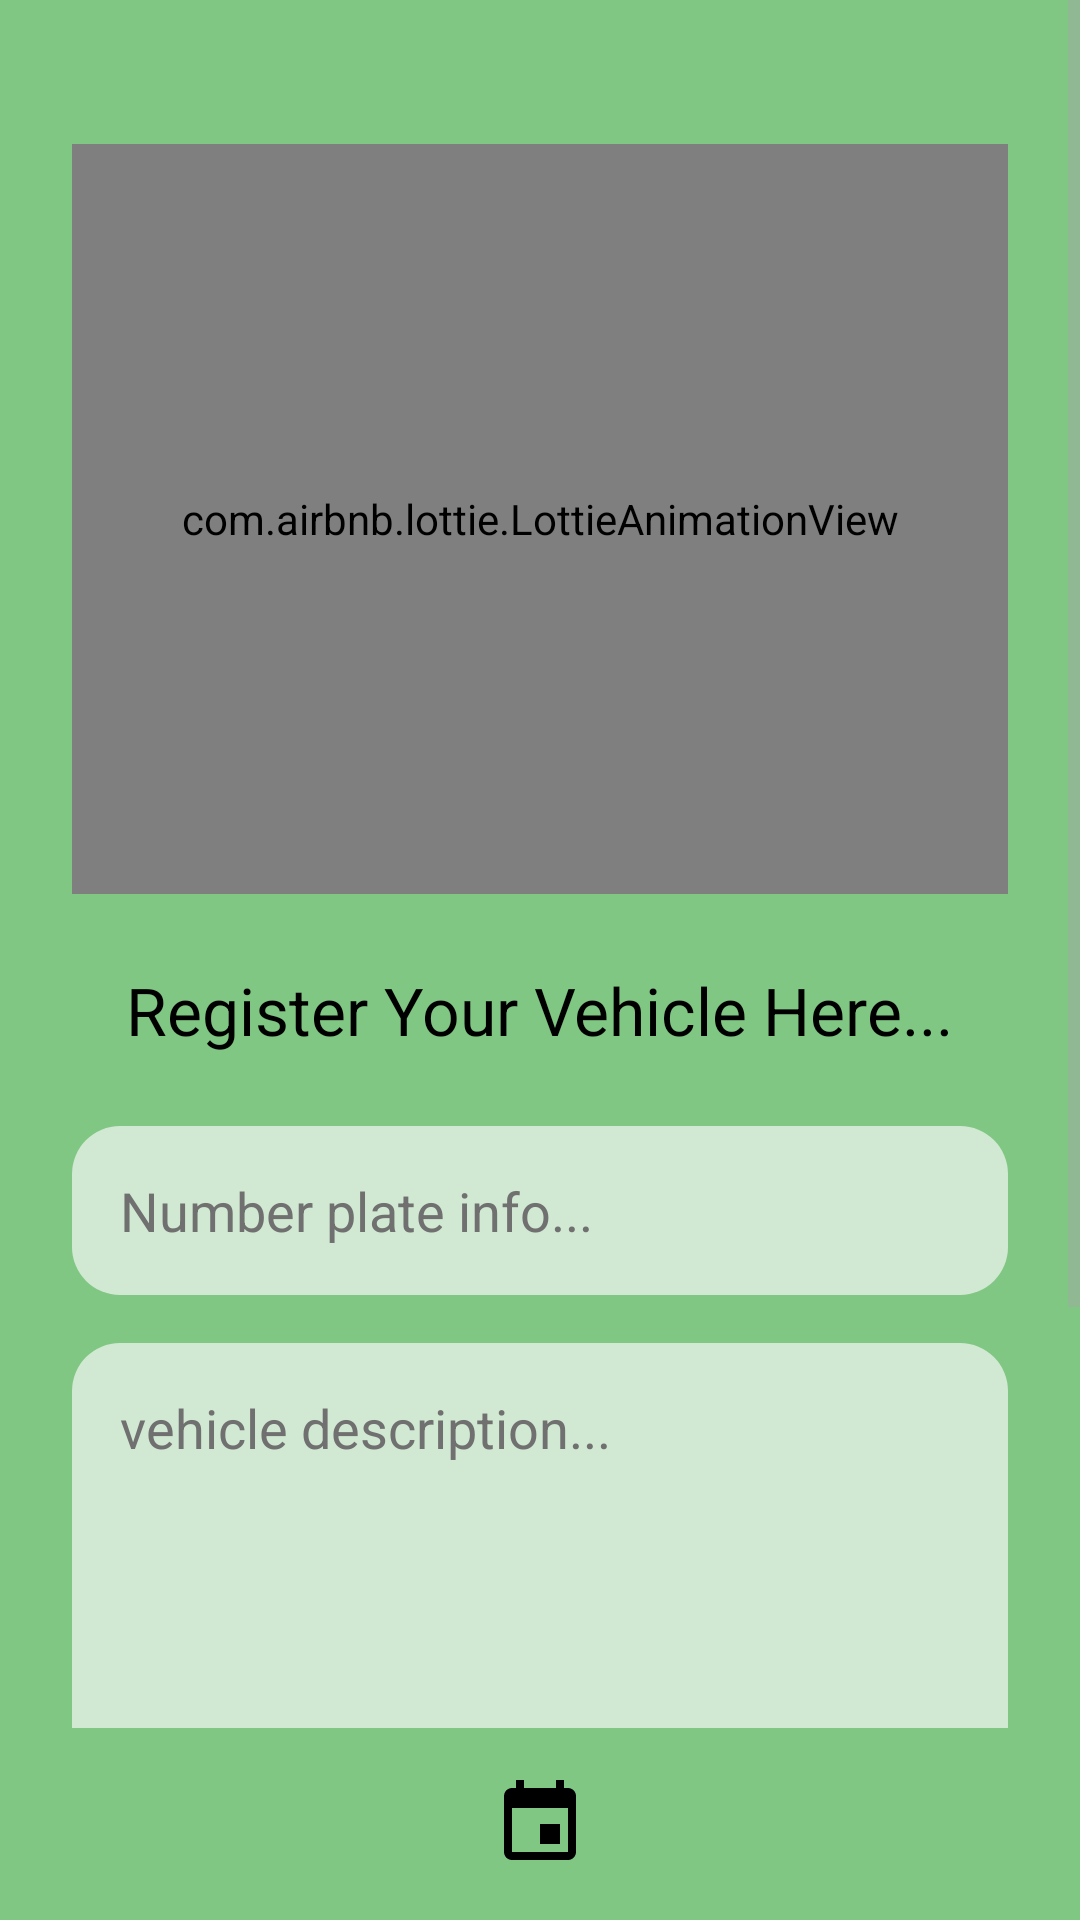

Named icons in this screenshot (1080 x 1920) and their centers, [x,y]:
Calendar: [540,1820]
